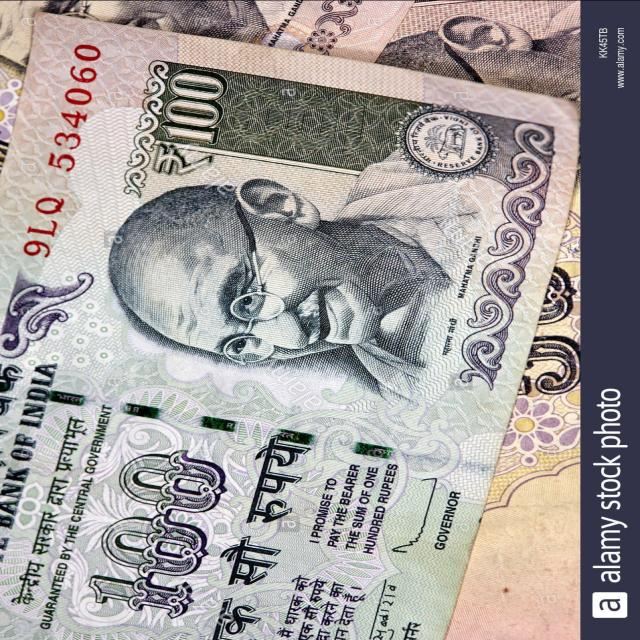100IndianRupees: (0, 10, 581, 640)
